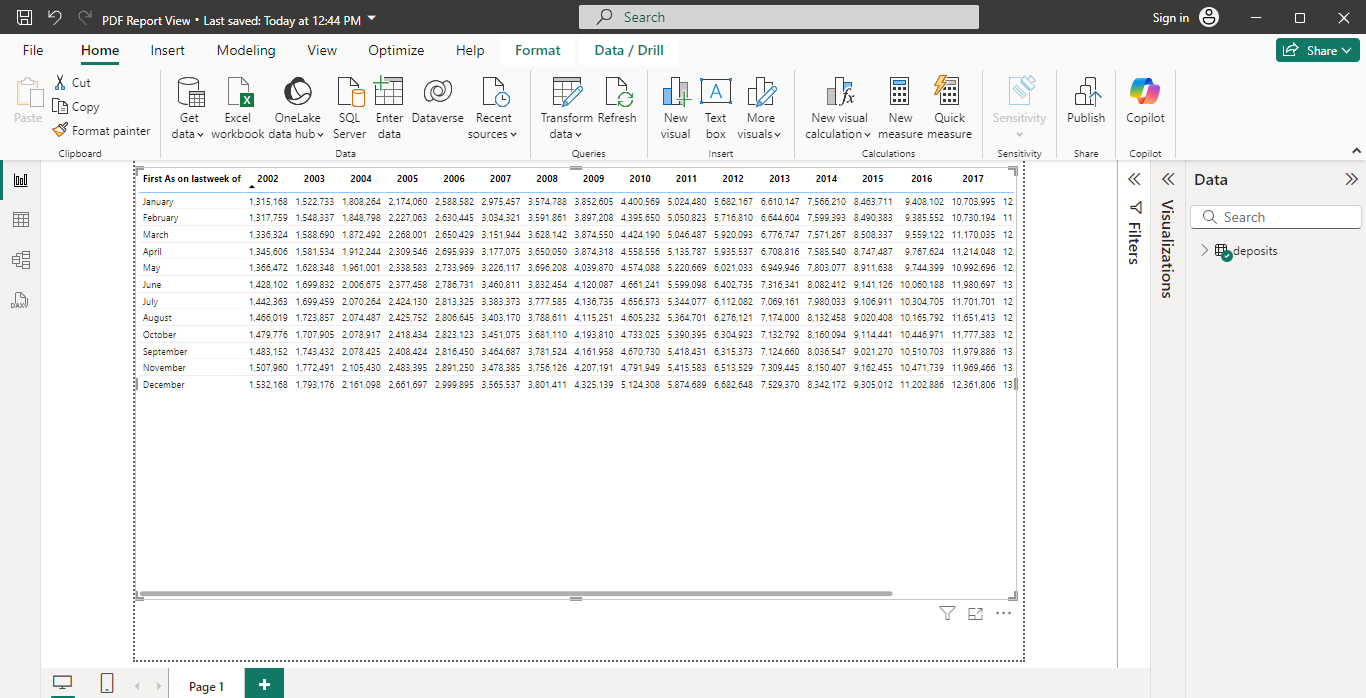

What the dashboard file says about the page in this screenshot:
{"tool":"powerbi","page":{"name":"Page 1","canvas":[1280,720],"ordinal":0},"visuals":[{"type":"tableEx","fields":{"Values":["Table001 (Page 1).As on lastweek of","Sum(Table001 (Page 1).2002)","Sum(Table001 (Page 1).2003)","Sum(Table001 (Page 1).2004)","Sum(Table001 (Page 1).2005)","Sum(Table001 (Page 1).2006)","Sum(Table001 (Page 1).2007)","Sum(Table001 (Page 1).2008)","Sum(Table001 (Page 1).2009)","Sum(Table001 (Page 1).2010)","Sum(Table001 (Page 1).2011)","Sum(Table001 (Page 1).2012)"]},"box":[0,10.1,1270.1,623.5],"z":0}]}

Visuals, with their boxes on the page's 1280x720 design canvas (x1, y1, x2, y2). These are canvas units, not pixel positions in the 1366x698 screenshot, which may show the page scaled, cropped or inside an application window:
tableEx - Table001 (Page 1).As on lastweek of x Sum(Table001 (Page 1).2002): crop(0, 10, 1270, 634)
